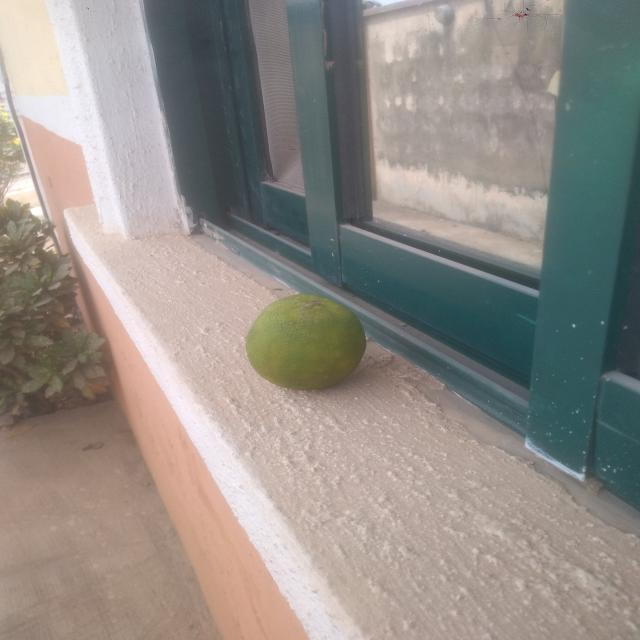Unripe: (232, 286, 398, 400)
